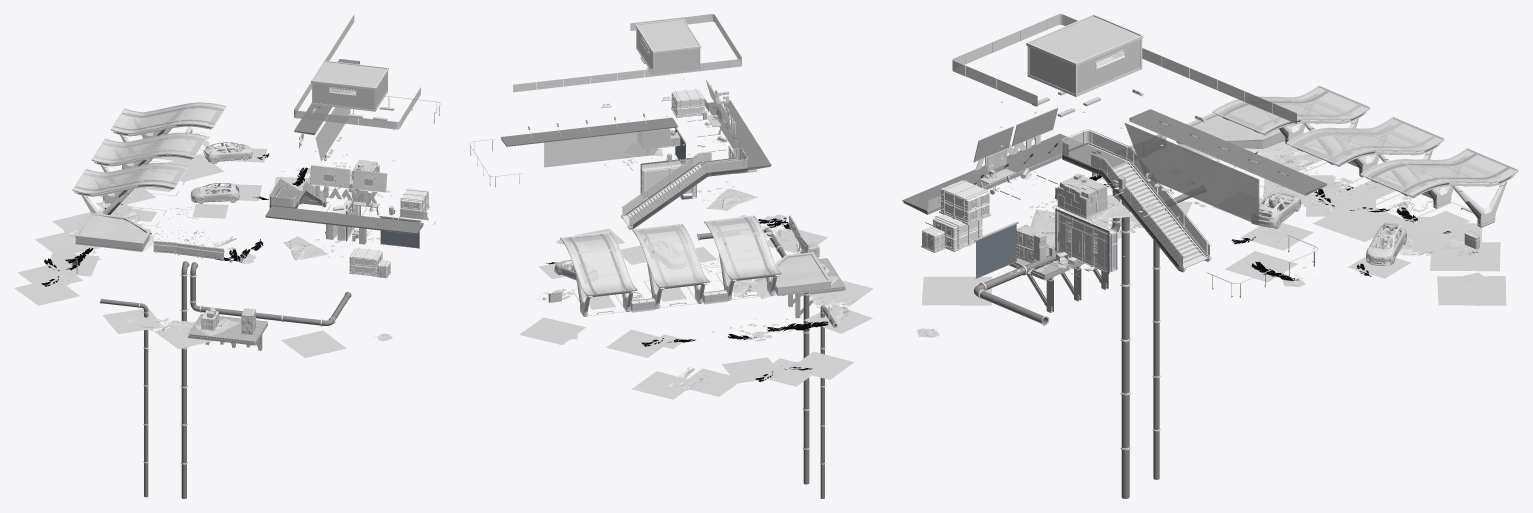
Rendered from cell_164_109.fbx.
3 views of the same model, side by side, from view 1: azimuth 30°, elevation 25°; view 2: azimuth 150°, elevation 25°; view 3: azimuth 270°, elevation 25° (orthographic). The views are drawn at different scales.
Parts seen in each view (by area): view 1: SM_H_Transport_Utility_ParkingShed_02_Glass.mo, SM_H_Transport_Utility_ParkingShed_02.mo, SM_H_Building_FutureTech_Dock_Pipe_04.mo, SM_H_Building_FutureTech_Dock_06d.mo, SM_H_Building_FutureTech_Dock_01a.mo, SM_H_Building_FutureTech_Dock_06_05.mo, SM_H_Building_FutureTech_Platform_03.mo.001, SM_DECOR_GrassDebris_Less_01_HD.mo.576, SM_DECOR_GrassDebris_Less_01_HD.mo.338, SM_DECOR_GrassDebris_Less_01_HD.mo.328, SM_DECOR_GrassDebris_Less_01_HD.mo.340, SM_FutureTech_Vehicle_ConceptCar_01_C.mo (+17 smaller); view 2: SM_H_Transport_Utility_ParkingShed_02_Glass.mo, SM_H_Transport_Utility_ParkingShed_02.mo, SM_H_Building_FutureTech_Dock_06_Glass_01.mo, SM_H_Building_FutureTech_Dock_06d.mo, SM_H_Building_FutureTech_Dock_Pipe_04.mo, SM_H_Building_FutureTech_Dock_06_02.mo, SM_H_Building_FutureTech_Dock_06_04.mo, SM_H_Building_FutureTech_Dock_01a.mo, SM_H_Building_FutureTech_Dock_06a_Glass_09.mo, SM_H_Building_FutureTech_Dock_06_05.mo, SM_H_Building_FutureTech_Dock_06_Glass_05.mo, SM_DECOR_GrassDebris_Less_01_HD.mo.340 (+18 smaller); view 3: SM_H_Transport_Utility_ParkingShed_02.mo, SM_H_Transport_Utility_ParkingShed_02_Glass.mo, SM_H_Building_FutureTech_Dock_06d.mo, SM_H_Building_FutureTech_Dock_Pipe_04.mo, SM_H_Building_FutureTech_Dock_06_Glass_01.mo, SM_H_Building_FutureTech_Dock_06_02.mo, SM_H_Building_FutureTech_Dock_06_04.mo, SM_H_Building_FutureTech_Dock_06_05.mo, SM_H_Building_FutureTech_Dock_01a.mo, SM_DECOR_GrassDebris_Less_01_HD.mo.332, SM_H_Building_FutureTech_Dock_06_InterWall_Glass_11.mo, SM_DECOR_GrassDebris_Less_01_HD.mo.576 (+27 smaller).
Boxes of the visible parts, <box> form: SM_H_Transport_Utility_ParkingShed_02_Glass.mo: <box>73,102,225,192</box>; SM_H_Transport_Utility_ParkingShed_02.mo: <box>72,102,226,214</box>; SM_H_Building_FutureTech_Dock_Pipe_04.mo: <box>99,261,351,498</box>; SM_H_Building_FutureTech_Dock_06d.mo: <box>311,60,388,111</box>; SM_H_Building_FutureTech_Dock_01a.mo: <box>74,212,150,251</box>; SM_H_Building_FutureTech_Dock_06_05.mo: <box>265,199,423,234</box>; SM_H_Building_FutureTech_Platform_03.mo.001: <box>188,314,267,350</box>; SM_DECOR_GrassDebris_Less_01_HD.mo.576: <box>281,330,346,357</box>; SM_DECOR_GrassDebris_Less_01_HD.mo.338: <box>14,278,79,305</box>; SM_DECOR_GrassDebris_Less_01_HD.mo.328: <box>102,308,163,334</box>; SM_DECOR_GrassDebris_Less_01_HD.mo.340: <box>44,252,99,276</box>; SM_FutureTech_Vehicle_ConceptCar_01_C.mo: <box>190,183,239,203</box>; SM_H_Transport_Utility_ParkingShed_02_Glass.mo: <box>561,216,780,294</box>; SM_H_Transport_Utility_ParkingShed_02.mo: <box>560,215,781,316</box>; SM_H_Building_FutureTech_Dock_06_Glass_01.mo: <box>544,120,674,167</box>; SM_H_Building_FutureTech_Dock_06d.mo: <box>635,18,701,74</box>; SM_H_Building_FutureTech_Dock_Pipe_04.mo: <box>697,227,837,498</box>; SM_H_Building_FutureTech_Dock_06_02.mo: <box>621,157,747,229</box>; SM_H_Building_FutureTech_Dock_06_04.mo: <box>501,113,677,146</box>; SM_H_Building_FutureTech_Dock_01a.mo: <box>771,252,831,295</box>; SM_H_Building_FutureTech_Dock_06a_Glass_09.mo: <box>513,60,728,92</box>; SM_H_Building_FutureTech_Dock_06_05.mo: <box>707,100,771,170</box>; SM_H_Building_FutureTech_Dock_06_Glass_05.mo: <box>629,158,747,225</box>; SM_DECOR_GrassDebris_Less_01_HD.mo.340: <box>722,357,783,383</box>; SM_H_Transport_Utility_ParkingShed_02.mo: <box>1212,85,1518,227</box>; SM_H_Transport_Utility_ParkingShed_02_Glass.mo: <box>1213,86,1516,194</box>; SM_H_Building_FutureTech_Dock_06d.mo: <box>1026,14,1143,96</box>; SM_H_Building_FutureTech_Dock_Pipe_04.mo: <box>974,185,1205,498</box>; SM_H_Building_FutureTech_Dock_06_Glass_01.mo: <box>1124,123,1259,225</box>; SM_H_Building_FutureTech_Dock_06_02.mo: <box>1062,143,1211,272</box>; SM_H_Building_FutureTech_Dock_06_04.mo: <box>1129,109,1326,195</box>; SM_H_Building_FutureTech_Dock_06_05.mo: <box>902,134,1082,214</box>; SM_H_Building_FutureTech_Dock_01a.mo: <box>1176,106,1296,149</box>; SM_DECOR_GrassDebris_Less_01_HD.mo.332: <box>1437,276,1506,305</box>; SM_H_Building_FutureTech_Dock_06_InterWall_Glass_11.mo: <box>1057,211,1107,271</box>; SM_DECOR_GrassDebris_Less_01_HD.mo.576: <box>921,276,992,305</box>.
Bounding box in the file's own units: 45.82 × 44.35 × 44.01.
